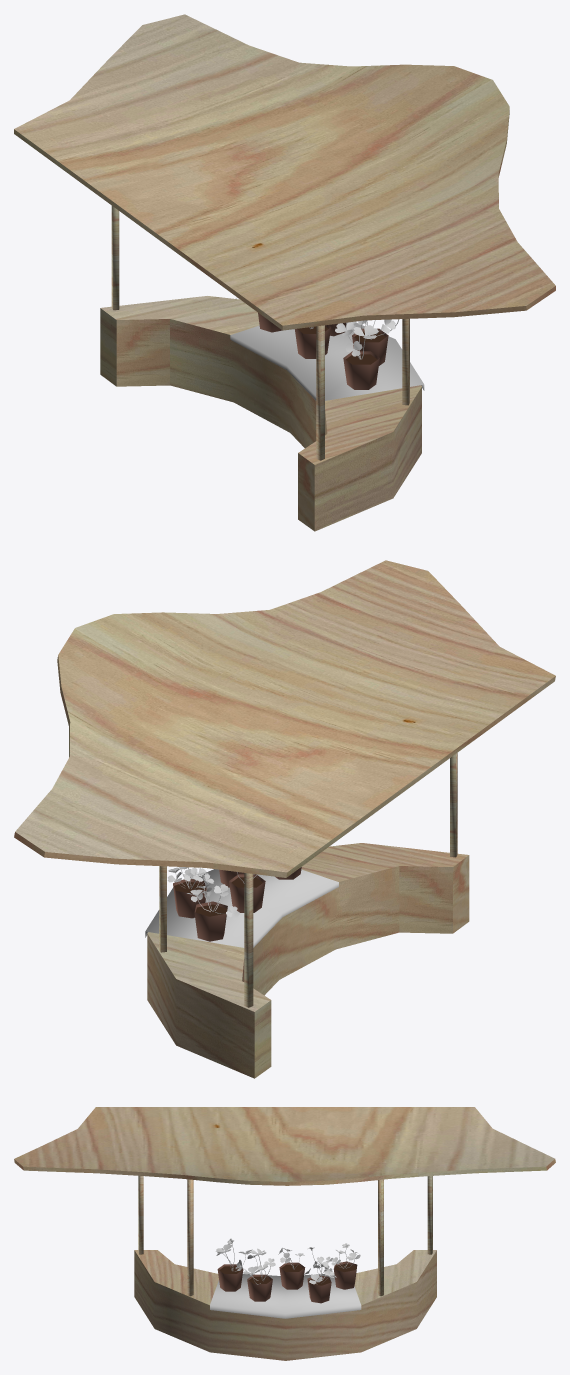
Rendered from Shop4.fbx.
3 views of the same model, one above another, from view 1: azimuth 30°, elevation 25°; view 2: azimuth 150°, elevation 25°; view 3: azimuth 270°, elevation 25° (orthographic). The views are drawn at different scales.
Parts seen in each view (by area): view 1: BezierCurve.001, Cylinder.001, Cylinder.002, Cube.004, Cylinder.005, Cylinder.007, shrub_sorrel_01_a, Cylinder.006; view 2: BezierCurve.001, Cylinder.001, Cylinder.002, Cube.004, Cylinder.009, Cylinder.008, Cylinder.007, shrub_sorrel_01_d; view 3: BezierCurve.001, Cylinder.001, Cylinder.002, Cube.004, Cylinder.006, Cylinder.007, Cylinder.005, Cylinder.009, Cylinder.008, shrub_sorrel_01_b, shrub_sorrel_01_d.
Boxes of the visible parts, <box> form: BezierCurve.001: <box>14,14,555,330</box>; Cylinder.001: <box>100,296,421,531</box>; Cylinder.002: <box>230,322,424,400</box>; Cube.004: <box>111,206,409,460</box>; Cylinder.005: <box>343,351,379,389</box>; Cylinder.007: <box>294,325,330,358</box>; shrub_sorrel_01_a: <box>335,320,378,359</box>; Cylinder.006: <box>352,328,388,365</box>; BezierCurve.001: <box>14,560,555,877</box>; Cylinder.001: <box>147,843,469,1078</box>; Cylinder.002: <box>145,869,338,947</box>; Cube.004: <box>159,753,457,1007</box>; Cylinder.009: <box>194,901,227,941</box>; Cylinder.008: <box>173,879,207,918</box>; Cylinder.007: <box>229,874,265,912</box>; shrub_sorrel_01_d: <box>167,867,213,902</box>; BezierCurve.001: <box>14,1107,555,1185</box>; Cylinder.001: <box>134,1250,436,1360</box>; Cylinder.002: <box>210,1274,361,1318</box>; Cube.004: <box>138,1175,432,1296</box>; Cylinder.006: <box>247,1274,272,1301</box>; Cylinder.007: <box>279,1262,305,1289</box>; Cylinder.005: <box>217,1264,243,1291</box>; Cylinder.009: <box>333,1261,357,1289</box>; Cylinder.008: <box>307,1275,331,1303</box>; shrub_sorrel_01_b: <box>235,1248,275,1284</box>; shrub_sorrel_01_d: <box>304,1247,336,1284</box>.
Bounding box in the file's own units: 557 × 466 × 1072.
